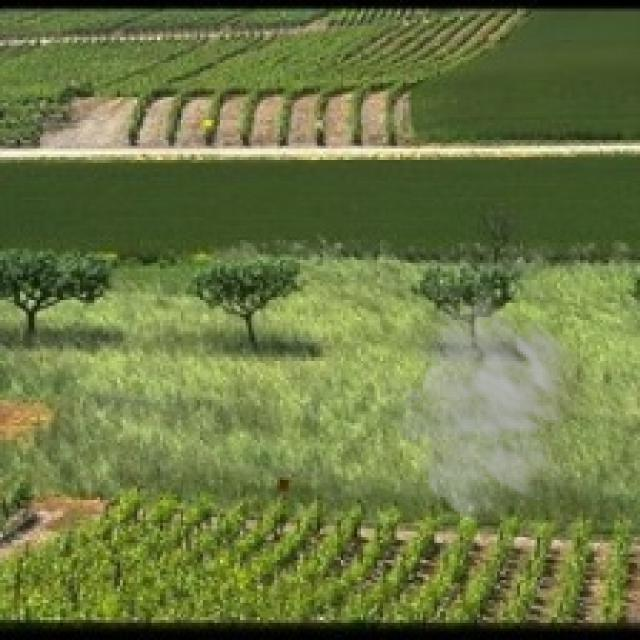smoke: (388, 283, 608, 534)
